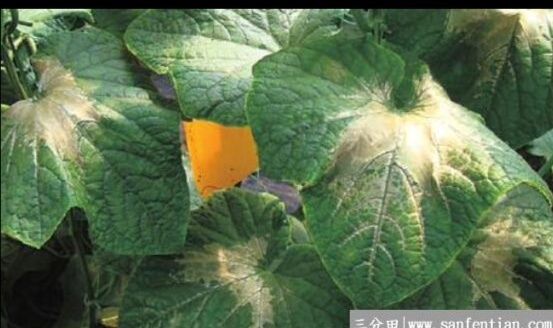cucumber_plant: (256, 29, 526, 302), (8, 14, 194, 253)
